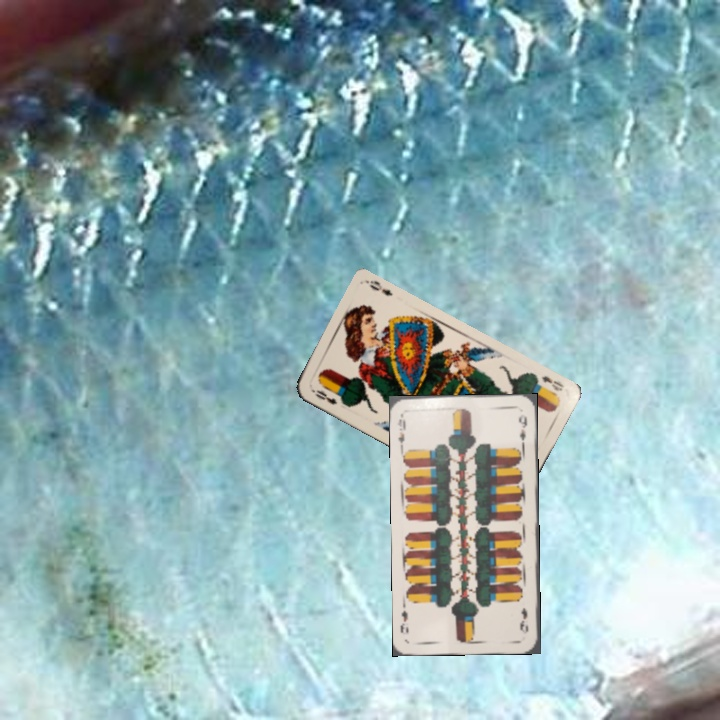E9: (393, 410, 408, 451), (516, 604, 531, 636)
EO: (307, 385, 340, 407), (537, 371, 567, 394)
